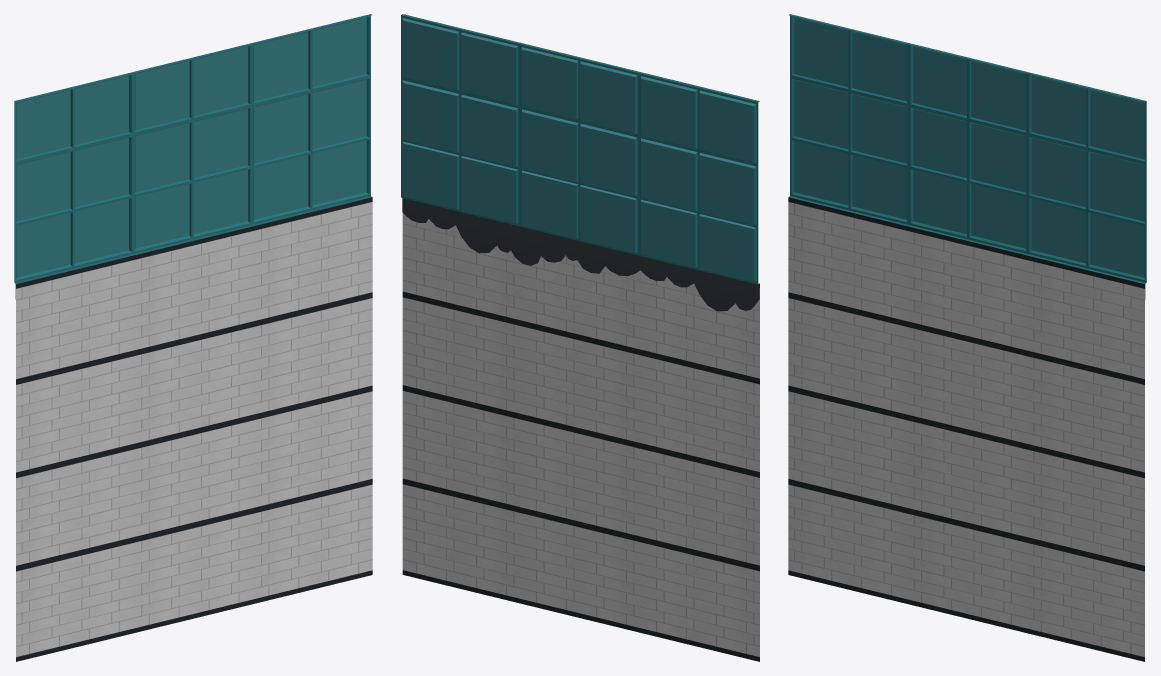
The model's file is squidgame_props_wall1.fbx.
3 renders of one model, left to right at view 1: azimuth 30°, elevation 25°; view 2: azimuth 150°, elevation 25°; view 3: azimuth 330°, elevation 25°, orthographic.
Parts seen in each view (by area): view 1: squidgame_props_wall1; view 2: squidgame_props_wall1; view 3: squidgame_props_wall1.
Part boxes in pixels (x1,y1,x2,y2): squidgame_props_wall1: (14,14,372,661); squidgame_props_wall1: (401,14,759,661); squidgame_props_wall1: (788,14,1146,661).
Bounding box in the file's own units: 6 × 9 × 0.0824.
